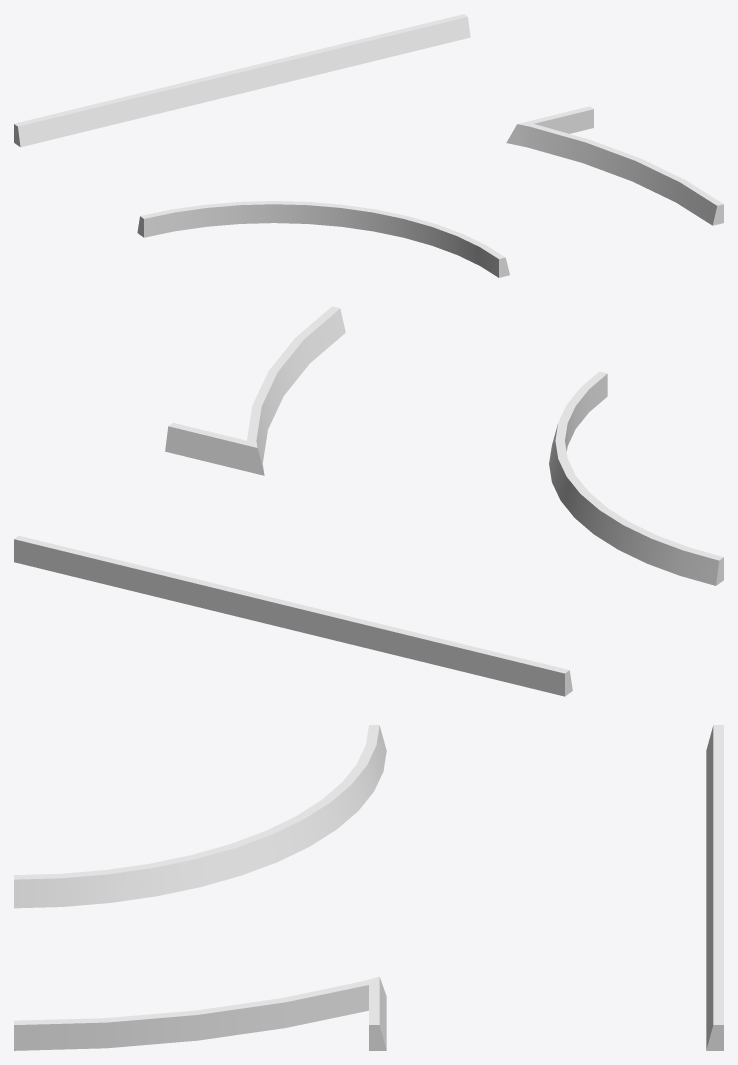
Rendered from road-curve-intersection-barrier.glb.
The picture shows the model from 3 angles, top to bottom: view 1: azimuth 30°, elevation 25°; view 2: azimuth 150°, elevation 25°; view 3: azimuth 270°, elevation 25°; orthographic projection. The views are drawn at different scales.
Visible parts, largest first — view 1: road-curve-intersection-barrier; view 2: road-curve-intersection-barrier; view 3: road-curve-intersection-barrier.
Part boxes in pixels (x1,y1,x2,y2): road-curve-intersection-barrier: (14,14,723,277); road-curve-intersection-barrier: (14,306,723,696); road-curve-intersection-barrier: (14,725,723,1050).
Bounding box in the file's own units: 2 × 0.08 × 2.
1 material, 1 textured.
